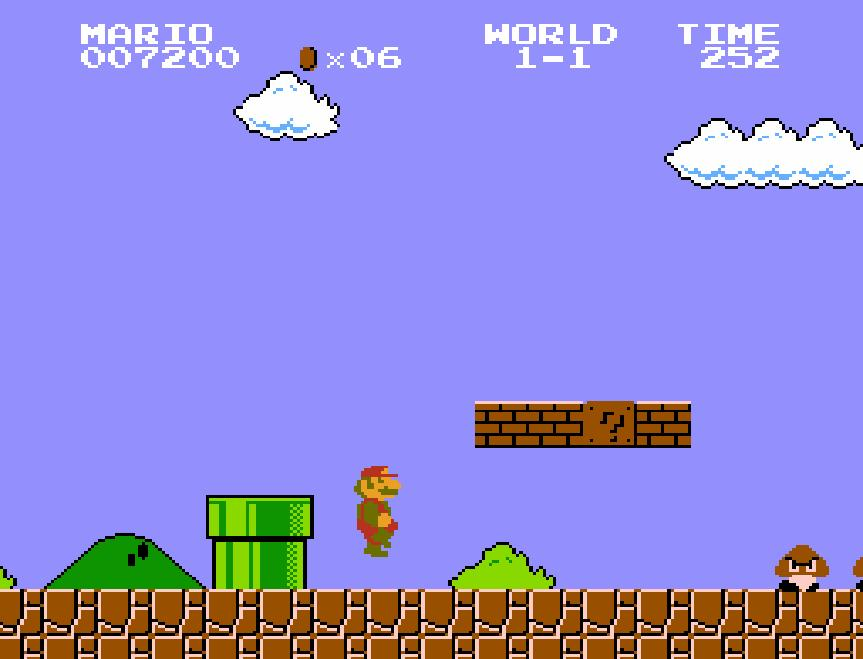big_mario: (348, 461, 406, 559)
